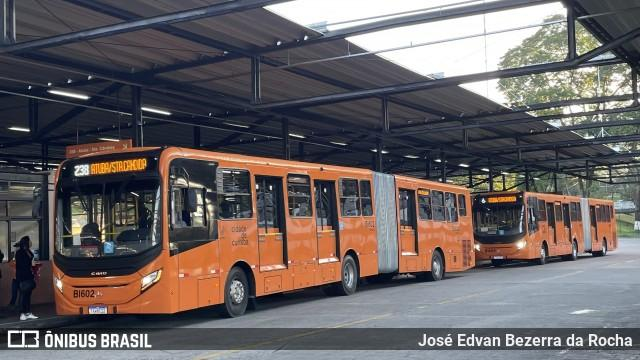ATUBA STACANDIDA: (88, 156, 149, 177)
